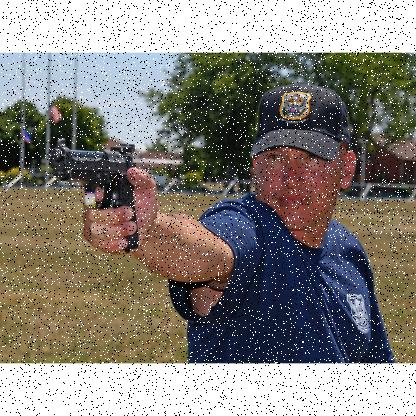gun: (44, 136, 140, 250)
